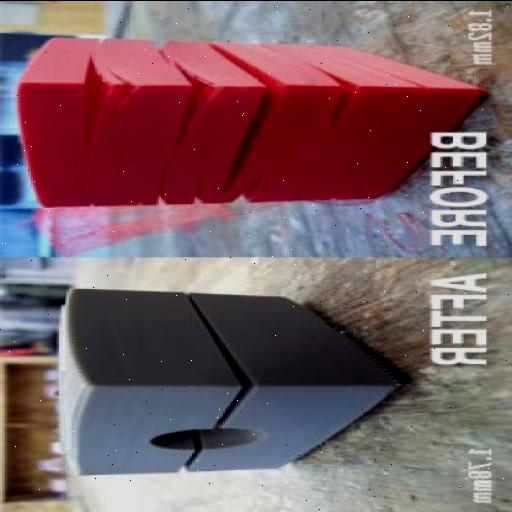cracks: (181, 302, 288, 424), (234, 51, 294, 158), (76, 50, 126, 160), (164, 57, 227, 142), (302, 60, 364, 144), (188, 165, 278, 209), (376, 66, 438, 128), (154, 455, 232, 482), (144, 158, 176, 210), (318, 181, 364, 209)
